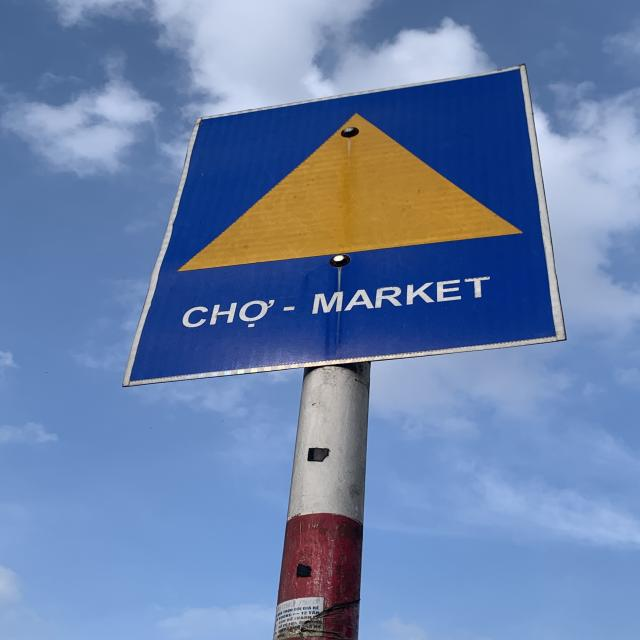Cho_Quay_Xe: (125, 64, 571, 388)
